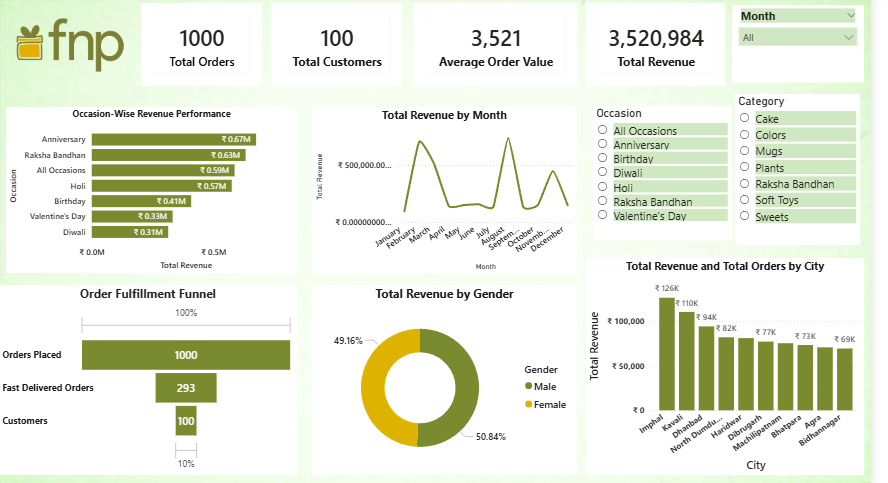

The dashboard page shown, as its layout file describes it:
{"tool":"powerbi","page":{"name":"Page 2","canvas":[1280,720],"ordinal":1},"visuals":[{"type":"cardVisual","fields":{"Data":["CALCULATED MEASURES.Total Orders"]},"box":[208.7,10.3,177.8,122],"z":0},{"type":"cardVisual","fields":{"Data":["CALCULATED MEASURES.Total Revenue"]},"box":[862.3,10.1,204.3,121.7],"z":1000},{"type":"cardVisual","fields":{"Data":["CALCULATED MEASURES.Average Order Value"]},"box":[609.8,10.3,239.5,122],"z":2000},{"type":"cardVisual","fields":{"Data":["CALCULATED MEASURES.Total Customers"]},"box":[399.7,10.3,192.5,122],"z":3000},{"type":"clusteredBarChart","title":"Occasion-Wise Revenue Performance","fields":{"Category":["Orders.Occasion"],"Y":["CALCULATED MEASURES.Total Revenue"]},"box":[10.3,163.1,427.6,243.9],"z":4000},{"type":"image","box":[0,0,208.7,144],"z":5000},{"type":"funnel","title":"Order Fulfillment Funnel","fields":{"Category":["Funnel Table2.Stage"],"Y":["CALCULATED MEASURES.Funnel Value"]},"box":[0,424.7,437.9,279.2],"z":6000},{"type":"lineChart","fields":{"Category":["Orders.Order Date.Variation.Date Hierarchy.Month"],"Y":["CALCULATED MEASURES.Total Revenue"]},"box":[459.9,163.1,389.4,245.4],"z":8000},{"type":"donutChart","fields":{"Category":["Customers.Gender"],"Y":["CALCULATED MEASURES.Total Revenue"]},"box":[459.9,424.7,389.4,279.2],"z":8001},{"type":"clusteredColumnChart","fields":{"Category":["Customers.City"],"Y":["CALCULATED MEASURES.Total Revenue"]},"box":[862.3,385.5,408.7,318.8],"z":8003},{"type":"slicer","fields":{"Values":["Orders.Order Date.Variation.Date Hierarchy.Month"]},"box":[1076.8,13,194.2,114.5],"z":8004},{"type":"listSlicer","fields":{"Values":["Orders.Occasion"]},"box":[872.5,162.3,204.3,197.1],"z":8005},{"type":"listSlicer","fields":{"Values":["Products.Category"]},"box":[1081.2,143.5,184.1,221.7],"z":8006}]}

Visuals, with their boxes on the page's 1280x720 design canvas (x1, y1, x2, y2). These are canvas units, not pixel positions in the 888x483 screenshot, which may show the page scaled, cropped or inside an application window:
cardVisual - CALCULATED MEASURES.Total Orders: 209, 10, 386, 132
cardVisual - CALCULATED MEASURES.Total Revenue: 862, 10, 1067, 132
cardVisual - CALCULATED MEASURES.Average Order Value: 610, 10, 849, 132
cardVisual - CALCULATED MEASURES.Total Customers: 400, 10, 592, 132
"Occasion-Wise Revenue Performance" clusteredBarChart: 10, 163, 438, 407
image: 0, 0, 209, 144
"Order Fulfillment Funnel" funnel: 0, 425, 438, 704
lineChart - Orders.Order Date.Variation.Date Hierarchy.Month x CALCULATED MEASURES.Total Revenue: 460, 163, 849, 408
donutChart - Customers.Gender x CALCULATED MEASURES.Total Revenue: 460, 425, 849, 704
clusteredColumnChart - Customers.City x CALCULATED MEASURES.Total Revenue: 862, 386, 1271, 704
slicer - Orders.Order Date.Variation.Date Hierarchy.Month: 1077, 13, 1271, 128
listSlicer - Orders.Occasion: 872, 162, 1077, 359
listSlicer - Products.Category: 1081, 144, 1265, 365
